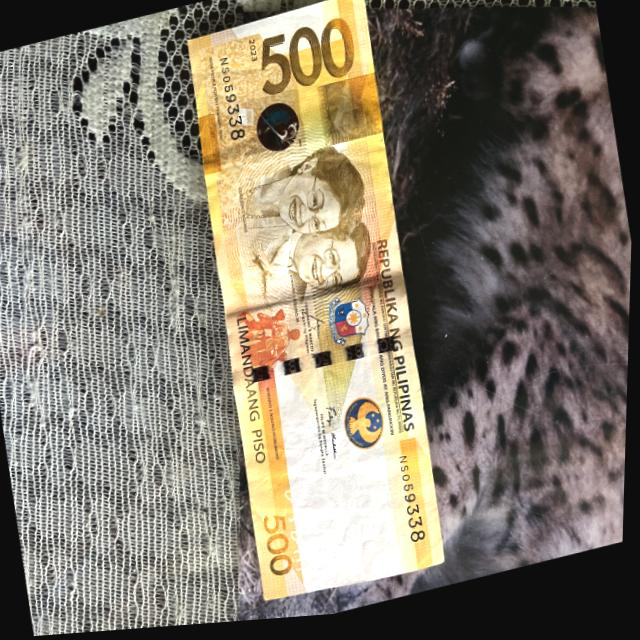concealed_value: (316, 77, 384, 152)
optically_variable_device: (234, 94, 308, 171)
security_thread: (235, 334, 414, 394)
see_through_mark: (280, 486, 315, 580)
serial_number: (210, 45, 255, 159), (395, 454, 433, 552)
value: (251, 14, 360, 108)
value_watermark: (317, 542, 355, 574)
